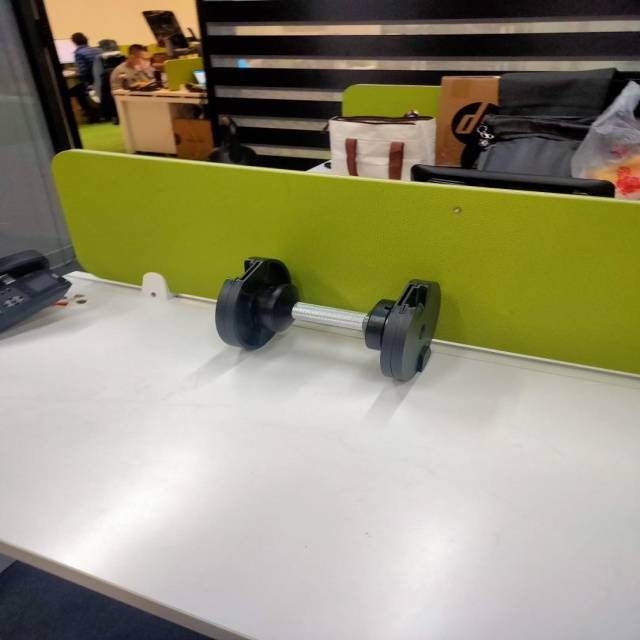03-6kg: (214, 255, 443, 382)
